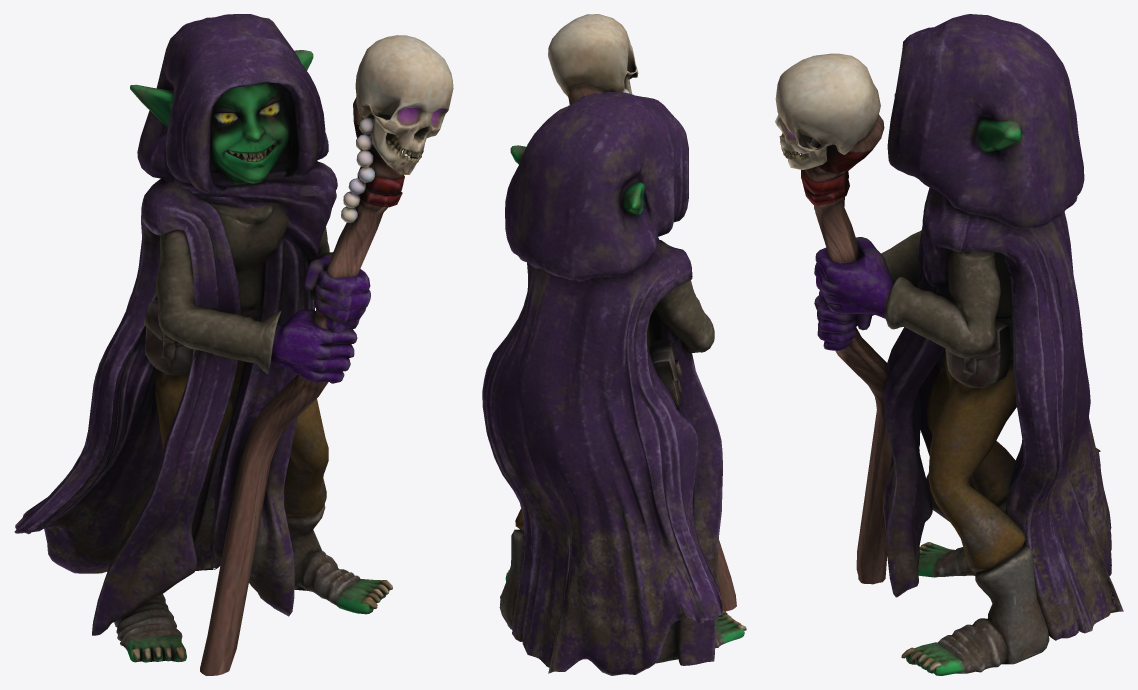
Rendered from MZ4250 - Goblin Warlock.glb.
The picture shows the model from 3 angles, left to right: view 1: azimuth 30°, elevation 25°; view 2: azimuth 150°, elevation 25°; view 3: azimuth 270°, elevation 25°; orthographic projection. The views are drawn at different scales.
Parts seen in each view (by area): view 1: Goblin Warlock.001; view 2: Goblin Warlock.001; view 3: Goblin Warlock.001.
Boxes of the visible parts, x1=… form: Goblin Warlock.001: x1=14, y1=14, x2=453, y2=675; Goblin Warlock.001: x1=482, y1=14, x2=746, y2=675; Goblin Warlock.001: x1=775, y1=14, x2=1123, y2=675.
Bounding box in the file's own units: 41.91 × 78.41 × 41.2.
Materials: 1 (1 with a texture image).
